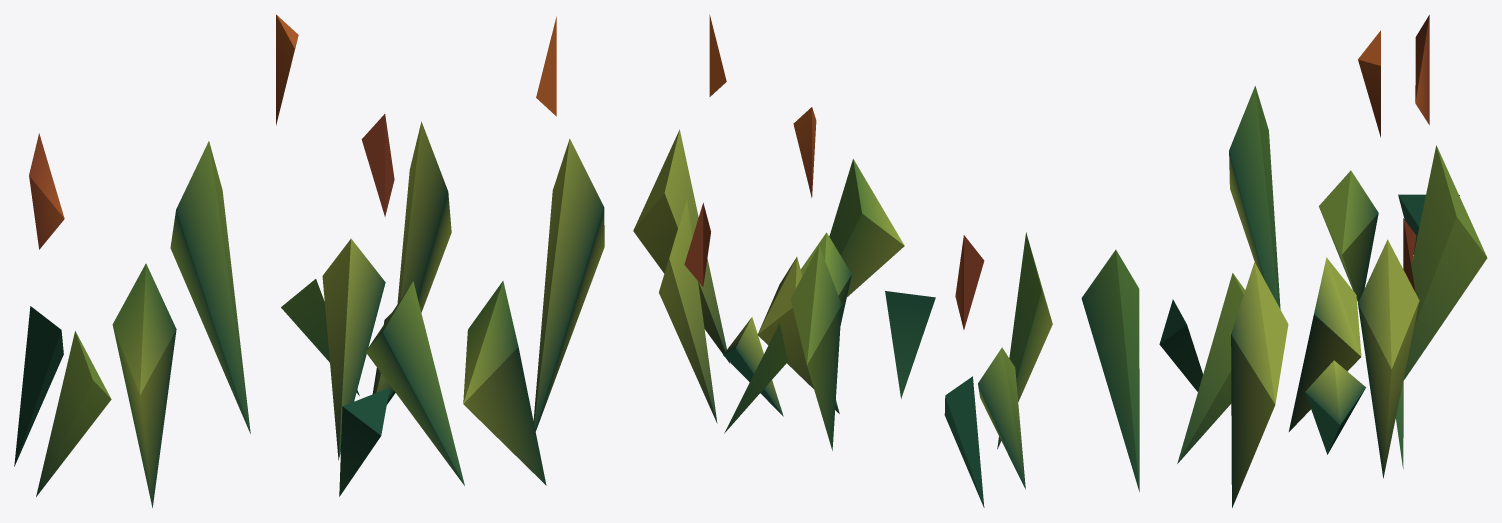
The model's file is grove_reeds-lod1.glb.
3 renders of one model, left to right at view 1: azimuth 30°, elevation 25°; view 2: azimuth 150°, elevation 25°; view 3: azimuth 270°, elevation 25°, orthographic. The views are drawn at different scales.
Visible parts, largest first — view 1: grove_reeds; view 2: grove_reeds; view 3: grove_reeds.
Part boxes in pixels (x1,y1,x2,y2): grove_reeds: [14, 14, 604, 507]; grove_reeds: [633, 14, 1052, 507]; grove_reeds: [1081, 15, 1487, 507].
Bounding box in the file's own units: 2.51 × 1.93 × 1.77.
